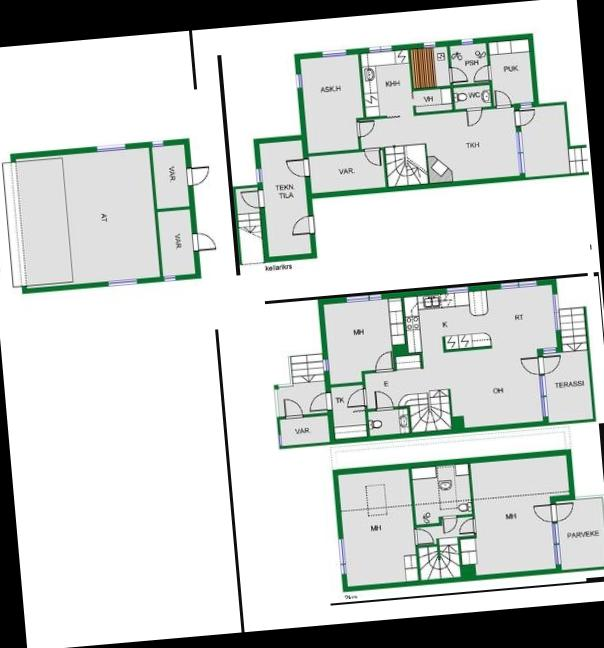door: (188, 230, 217, 256), (550, 501, 580, 525), (185, 163, 212, 189), (290, 212, 316, 238), (517, 355, 543, 381), (282, 156, 312, 178), (460, 104, 484, 130), (537, 354, 563, 378), (532, 502, 557, 526), (308, 390, 331, 416), (280, 395, 304, 419), (345, 386, 367, 412), (360, 144, 382, 170), (455, 516, 479, 538), (352, 118, 376, 140), (472, 62, 496, 84), (372, 388, 392, 414), (372, 349, 393, 373), (446, 64, 470, 84), (410, 527, 435, 546), (494, 86, 512, 112), (440, 513, 461, 535), (514, 106, 537, 126)
window: (546, 520, 564, 570), (331, 534, 350, 580), (512, 127, 528, 178), (496, 276, 538, 294), (340, 290, 383, 306), (548, 290, 563, 333), (536, 376, 550, 422), (101, 275, 142, 290), (91, 140, 132, 154), (316, 46, 349, 61), (364, 42, 396, 56), (443, 284, 471, 296), (293, 69, 305, 94), (146, 138, 167, 150), (457, 36, 478, 47), (162, 272, 180, 284), (320, 355, 330, 375), (254, 164, 264, 184), (420, 40, 438, 50)
